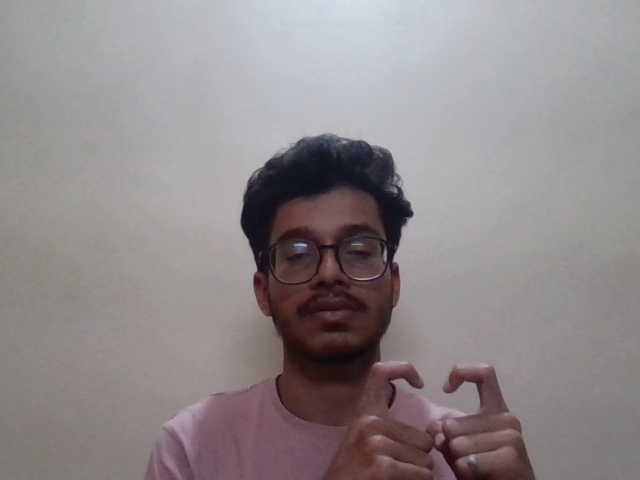who: (338, 357, 537, 464)
